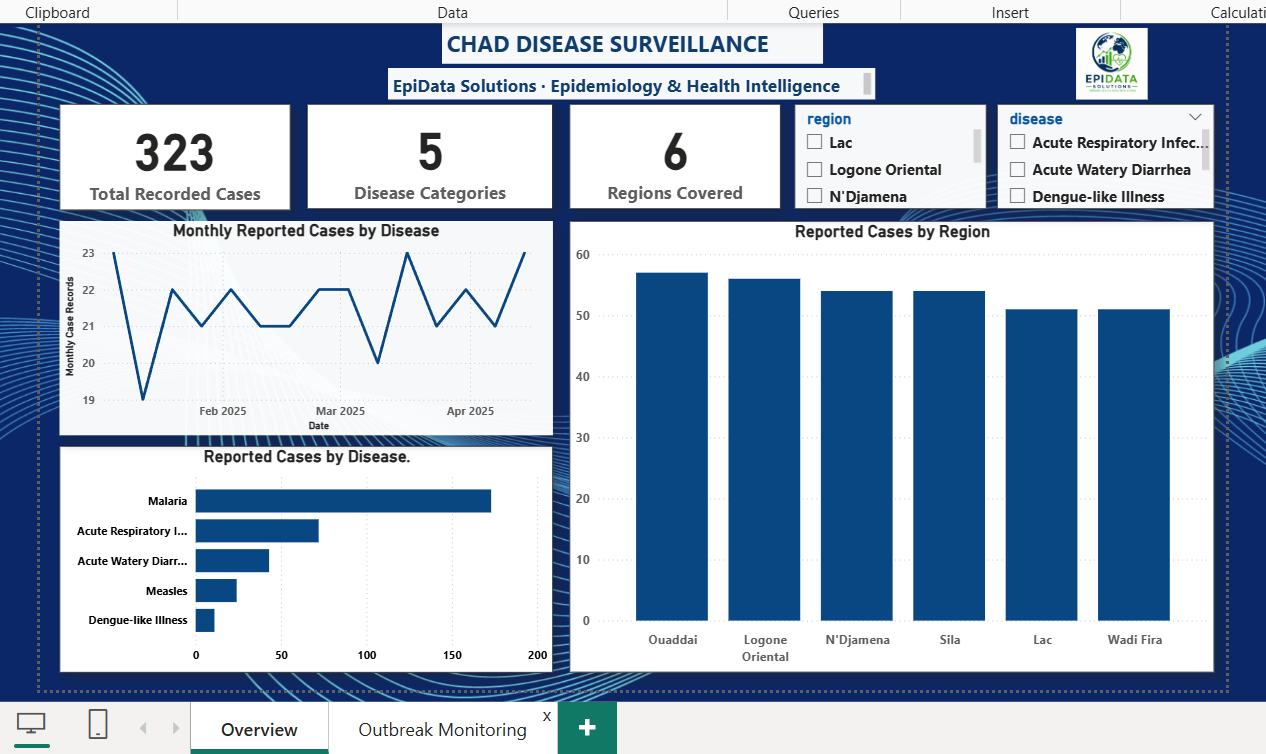

The dashboard page shown, as its layout file describes it:
{"tool":"powerbi","page":{"name":"Overview","canvas":[1280,720],"ordinal":0},"visuals":[{"type":"card","fields":{"Values":["HealthCases.Total Recorded Cases"]},"box":[21,87.4,249.4,115],"z":0},{"type":"card","fields":{"Values":["HealthCases.Disease Categories"]},"box":[288.2,87.4,265.6,113.3],"z":1000},{"type":"card","fields":{"Values":["HealthCases.Regions Covered"]},"box":[571.6,87.4,228.3,113.3],"z":2000},{"type":"clusteredBarChart","title":"Reported Cases by Disease.","fields":{"Category":["HealthCases.disease"],"Y":["HealthCases.Total Recorded Cases"]},"box":[21,456.6,532.7,244.5],"z":3000},{"type":"clusteredColumnChart","title":"Reported Cases by Region","fields":{"Category":["HealthCases.region"],"Y":["HealthCases.Total Recorded Cases"]},"box":[571.6,213.7,696.3,487.4],"z":4000},{"type":"slicer","fields":{"Values":["HealthCases.region"]},"box":[814.5,87.4,207.3,113.3],"z":5000},{"type":"slicer","fields":{"Values":["HealthCases.disease"]},"box":[1033.1,87.4,234.8,113.3],"z":6000},{"type":"lineChart","title":"Monthly Reported Cases by Disease","fields":{"Category":["Calendar.Date"],"Y":["HealthCases.Monthly Case Records"]},"box":[21,213.7,532.7,231.5],"z":7000},{"type":"textbox","box":[434,0,411.3,43.7],"z":8000},{"type":"textbox","box":[375.7,48.6,526.2,34],"z":9000},{"type":"image","box":[1033.1,0,247.7,87.4],"z":10000}]}

Visuals, with their boxes in screenshot pixels (x1, y1, x2, y2):
card - HealthCases.Total Recorded Cases: [x1=49, y1=99, x2=284, y2=207]
card - HealthCases.Disease Categories: [x1=301, y1=99, x2=551, y2=205]
card - HealthCases.Regions Covered: [x1=567, y1=99, x2=782, y2=205]
"Reported Cases by Disease." clusteredBarChart: [x1=49, y1=446, x2=551, y2=676]
"Reported Cases by Region" clusteredColumnChart: [x1=567, y1=218, x2=1223, y2=676]
slicer - HealthCases.region: [x1=796, y1=99, x2=991, y2=205]
slicer - HealthCases.disease: [x1=1002, y1=99, x2=1223, y2=205]
"Monthly Reported Cases by Disease" lineChart: [x1=49, y1=218, x2=551, y2=435]
textbox: [x1=438, y1=16, x2=825, y2=58]
textbox: [x1=383, y1=62, x2=878, y2=94]
image: [x1=1002, y1=16, x2=1235, y2=99]
